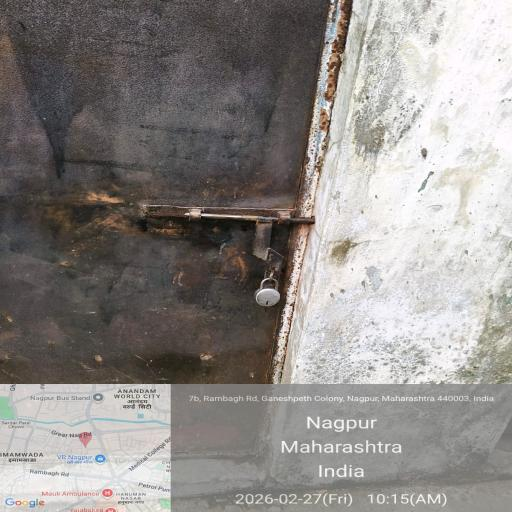partial_dirty_floor: (30, 31, 471, 484)
